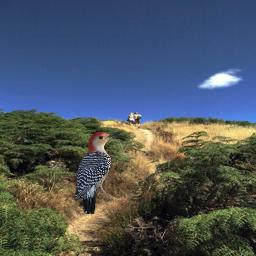Woodpecker: (74, 131, 123, 214)
